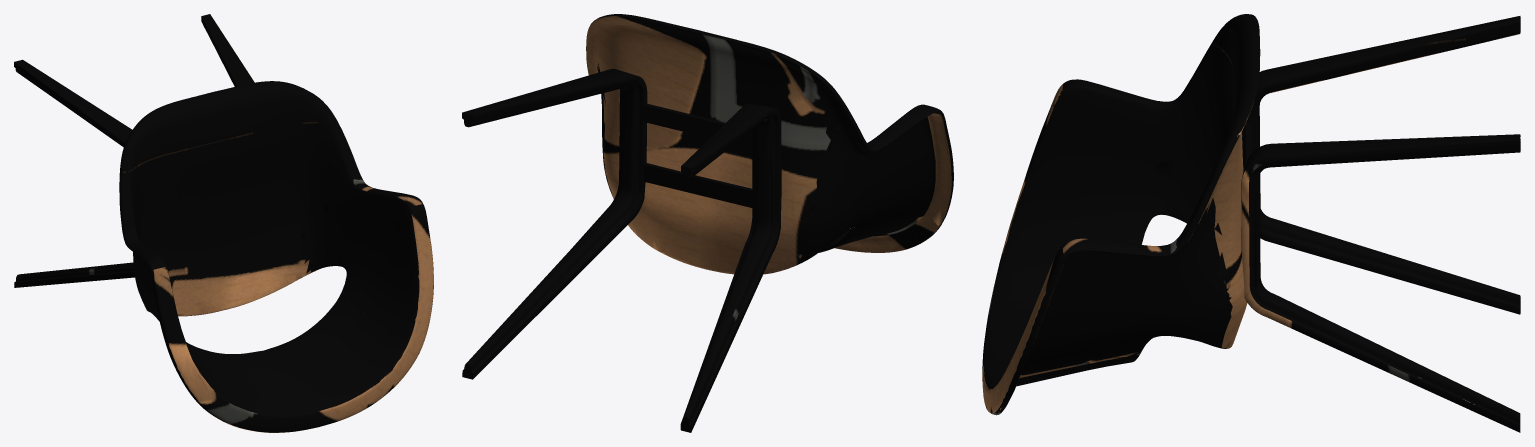
The picture shows the model from 3 angles, left to right: view 1: azimuth 30°, elevation 25°; view 2: azimuth 150°, elevation 25°; view 3: azimuth 270°, elevation 25°; orthographic projection. The views are drawn at different scales.
Bounding box in the file's own units: 0.5414 × 0.4881 × 0.7117.
